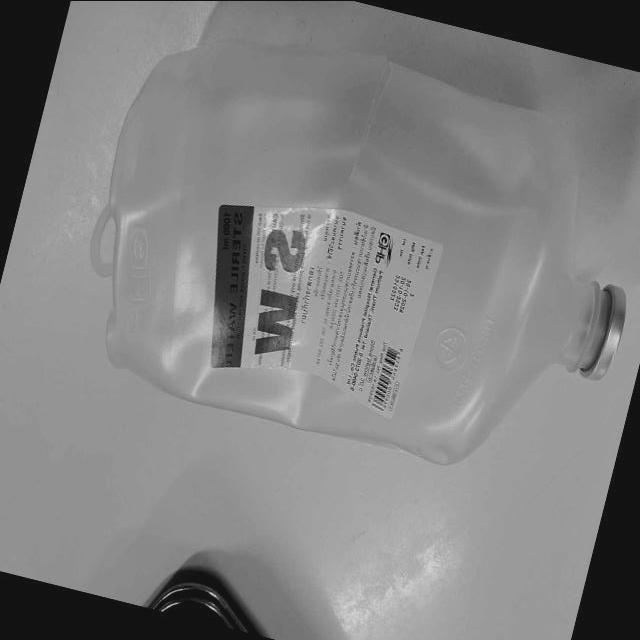General: (209, 200, 446, 418)
Infectious: (89, 26, 620, 466)
